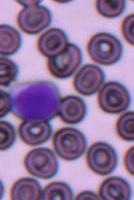L: (5, 80, 60, 122)
